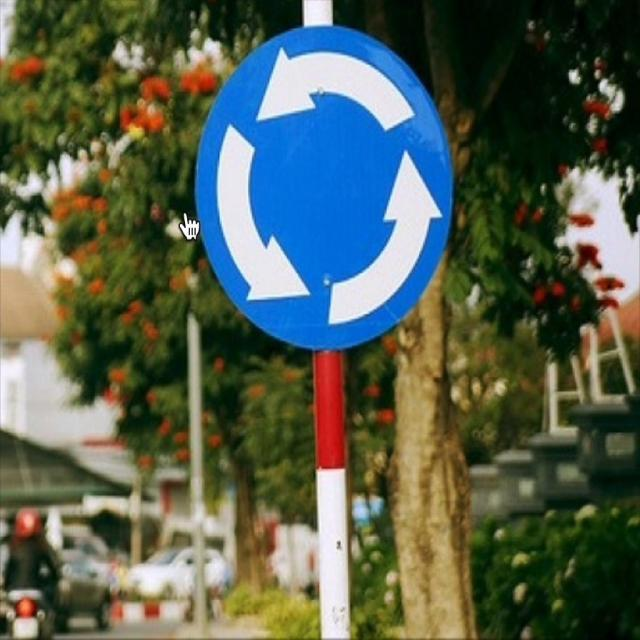303-noi-giao-nhau-chay-theo-vong-xuyen: (195, 23, 451, 347)
